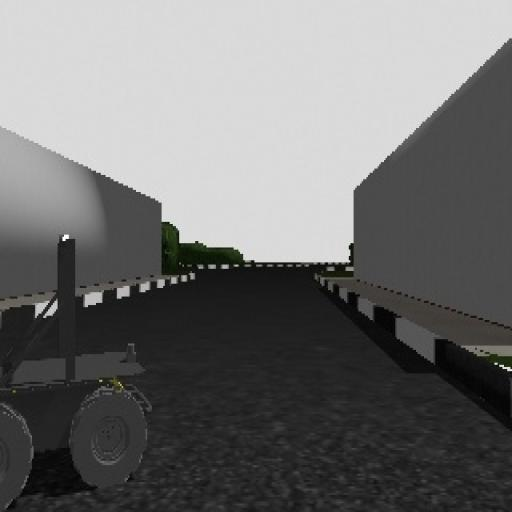huskya200: (2, 220, 156, 512)
